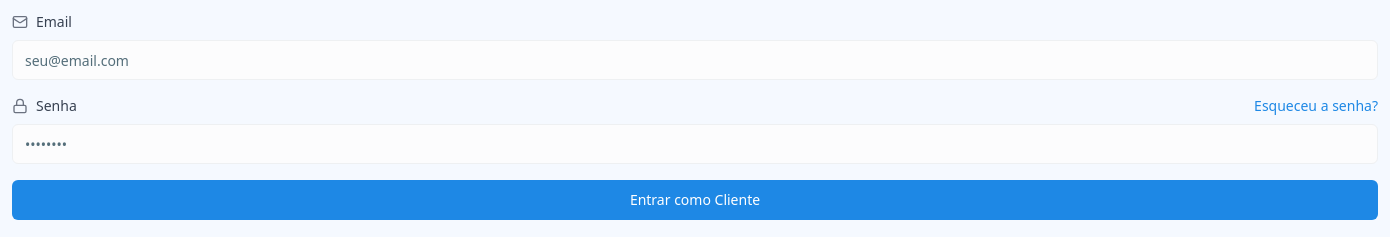
Test: LoginForm › envia o formulário corretamente
This screenshot has width=1390, height=237.
Step 1. Type "teste@teste.com" into the field with placeholder "seu@email.com" → (695, 60), box [12,40,1378,80]
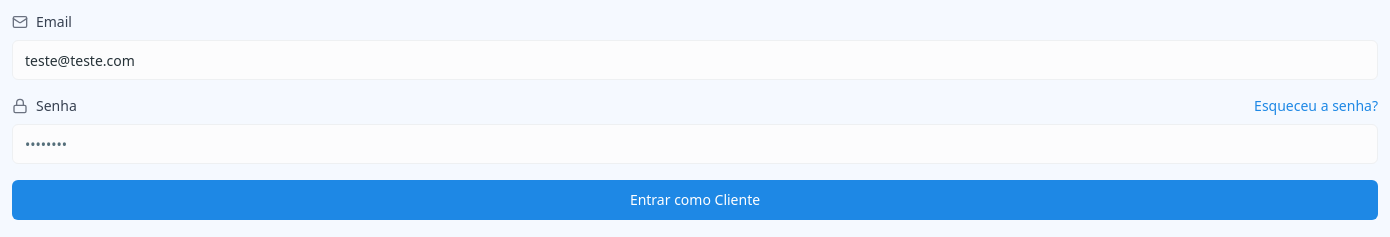
Step 2. Type "123456" into the password field with placeholder "••••••••" → (695, 144), box [12,124,1378,164]
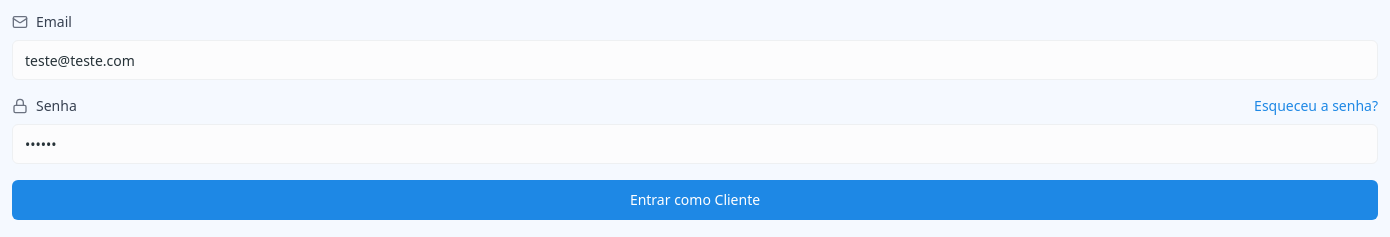
Step 3. Click the button "Entrar como Cliente" → click(695, 200), box [12,180,1378,220]
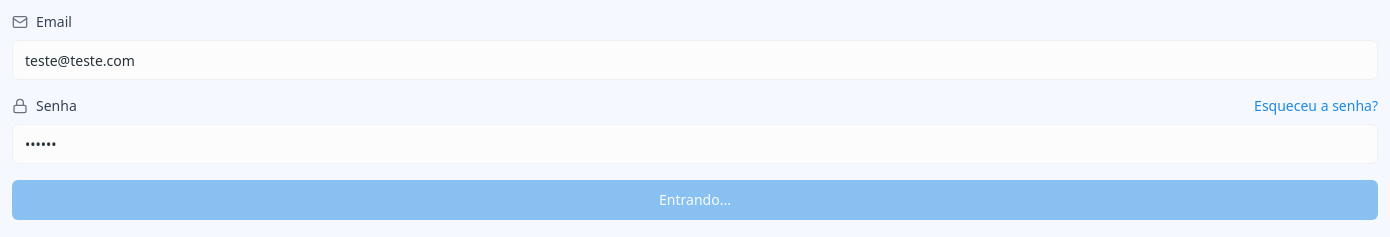
Check: the button named "entrar como cliente" is disabled, box [12,180,1378,220]
